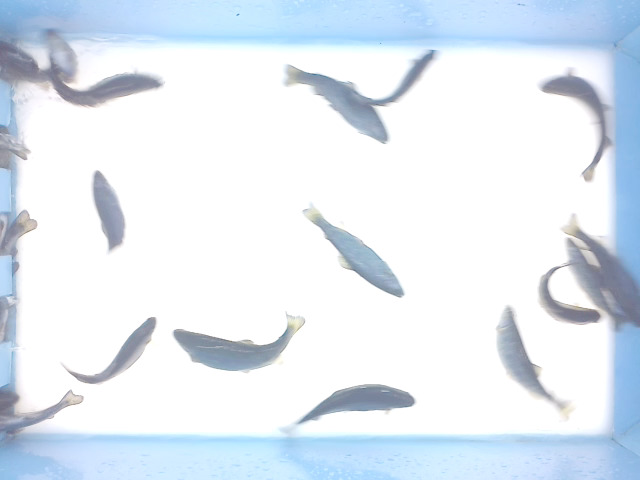fish: (298, 199, 407, 299), (494, 302, 578, 424), (535, 64, 617, 184), (167, 308, 306, 375), (282, 62, 391, 146), (276, 383, 418, 439), (57, 315, 159, 388), (44, 54, 166, 107), (564, 235, 627, 334), (344, 48, 441, 107), (533, 259, 602, 329), (91, 168, 129, 258)
